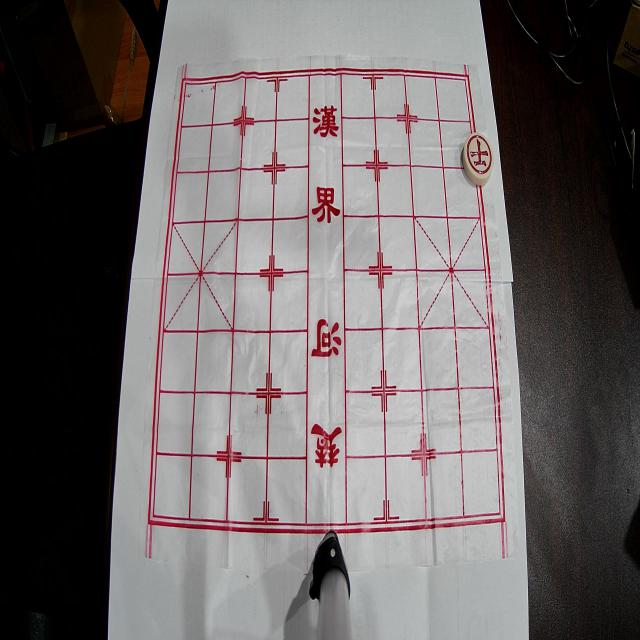red-guard: (462, 132, 493, 186)
